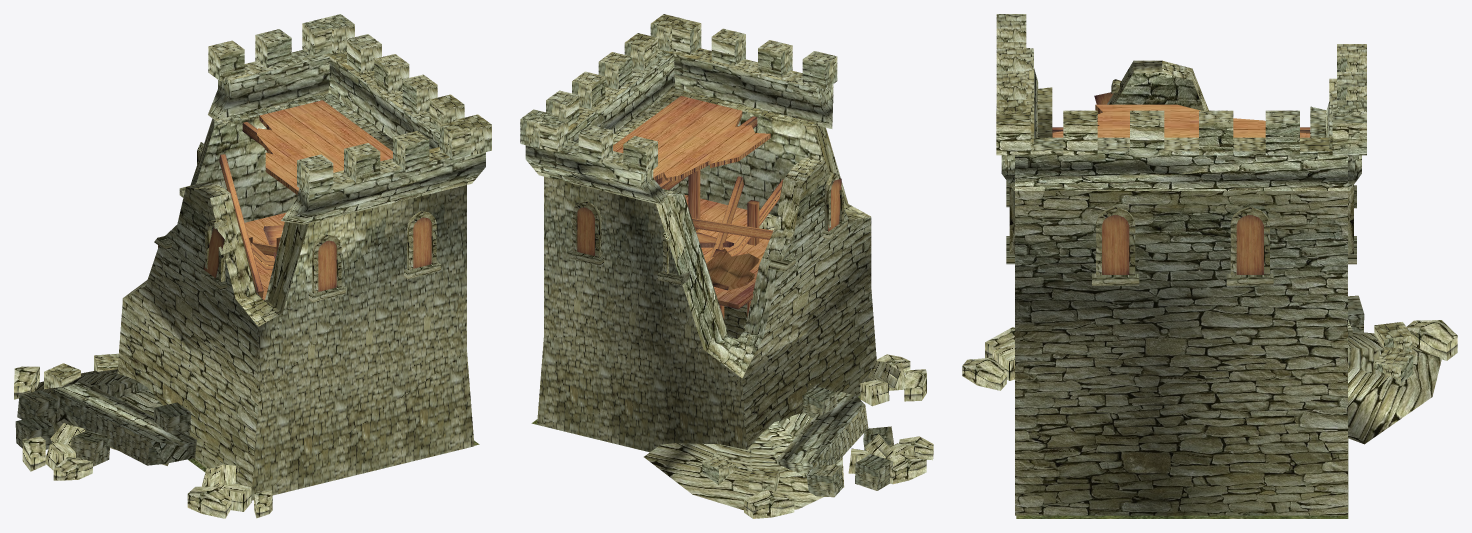
Rendered from SquareTower1desB.obj.
3 renders of one model, left to right at view 1: azimuth 30°, elevation 25°; view 2: azimuth 150°, elevation 25°; view 3: azimuth 270°, elevation 25°, orthographic. The views are drawn at different scales.
Visible parts, largest first — view 1: Box218, Box265, Box221, Box268, Mesh01, Box266, Box267, Line28, Box272, Box270, Box271, Box296 (+29 smaller); view 2: Box218, Mesh01, Line28, Box221, Box265, Box266, Box268, Box267, Box307, Line21, Box354, Box272 (+30 smaller); view 3: Box218, Box267, Line28, Box221, Box277, Box284, Box274, Box286, Box287, Box288, Box289, Box285 (+15 smaller).
Part boxes in pixels (x1=…): Box218: x1=117, y1=92, x2=474, y2=500; Box265: x1=281, y1=147, x2=485, y2=224; Box221: x1=256, y1=100, x2=392, y2=194; Box268: x1=50, y1=380, x2=196, y2=465; Mesh01: x1=123, y1=118, x2=308, y2=326; Box266: x1=208, y1=49, x2=346, y2=119; Box267: x1=328, y1=51, x2=439, y2=149; Line28: x1=34, y1=369, x2=168, y2=465; Box272: x1=297, y1=154, x2=333, y2=194; Box270: x1=393, y1=131, x2=429, y2=171; Box271: x1=344, y1=143, x2=380, y2=183; Box296: x1=208, y1=40, x2=244, y2=81; Box218: x1=537, y1=89, x2=876, y2=451; Mesh01: x1=656, y1=124, x2=870, y2=378; Line28: x1=644, y1=412, x2=844, y2=510; Box221: x1=613, y1=96, x2=770, y2=181; Box265: x1=658, y1=48, x2=833, y2=128; Box266: x1=525, y1=140, x2=667, y2=204; Box268: x1=776, y1=391, x2=868, y2=477; Box267: x1=568, y1=50, x2=675, y2=142; Box307: x1=684, y1=194, x2=769, y2=309; Line21: x1=706, y1=248, x2=759, y2=290; Box354: x1=744, y1=489, x2=794, y2=518; Box272: x1=802, y1=51, x2=837, y2=89; Box218: x1=1015, y1=60, x2=1347, y2=515; Box267: x1=1015, y1=137, x2=1347, y2=190; Line28: x1=1348, y1=331, x2=1441, y2=444; Box221: x1=1052, y1=104, x2=1310, y2=137; Box277: x1=1236, y1=215, x2=1263, y2=274; Box284: x1=1063, y1=110, x2=1097, y2=155; Box274: x1=1102, y1=215, x2=1129, y2=274; Box286: x1=1199, y1=110, x2=1233, y2=155; Box287: x1=1265, y1=110, x2=1299, y2=155; Box288: x1=1130, y1=110, x2=1164, y2=155; Box289: x1=1332, y1=110, x2=1366, y2=155; Box285: x1=996, y1=110, x2=1030, y2=155.
Bounding box in the file's own units: 120 × 101 × 113.
